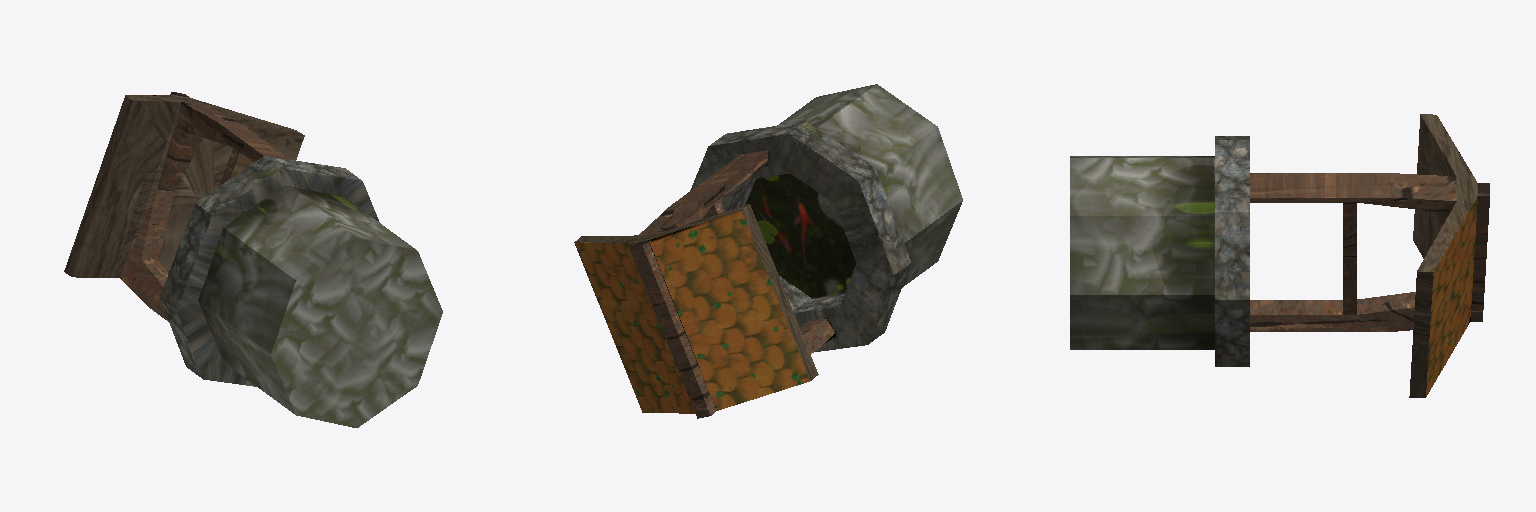
3 renders of one model, left to right at view 1: azimuth 30°, elevation 25°; view 2: azimuth 150°, elevation 25°; view 3: azimuth 270°, elevation 25°, orthographic.
Visible parts, largest first — view 1: Circle_Circle.001_Circle_Circle.000; view 2: Circle_Circle.001_Circle_Circle.000; view 3: Circle_Circle.001_Circle_Circle.000.
Boxes of the visible parts, x1=… form: Circle_Circle.001_Circle_Circle.000: x1=64, y1=92, x2=442, y2=427; Circle_Circle.001_Circle_Circle.000: x1=574, y1=84, x2=962, y2=418; Circle_Circle.001_Circle_Circle.000: x1=1070, y1=114, x2=1489, y2=397.
Bounding box in the file's own units: 1.65 × 1.56 × 2.56.
Materials: 1 (1 with a texture image).